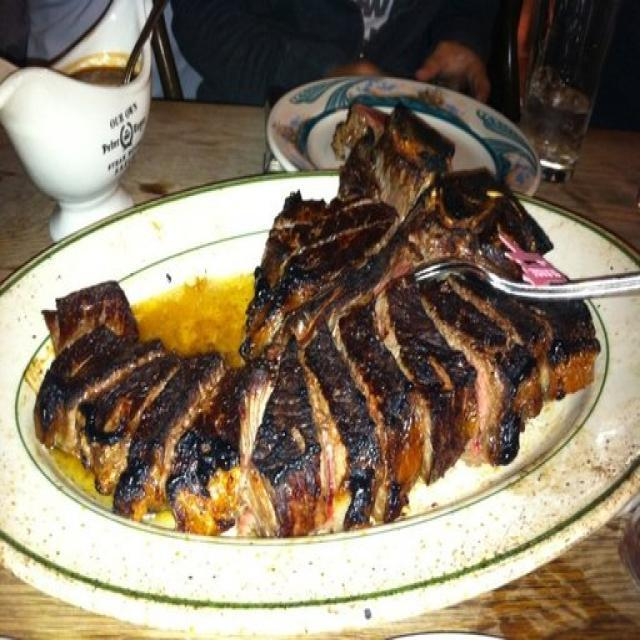Steak: (55, 186, 593, 518)
